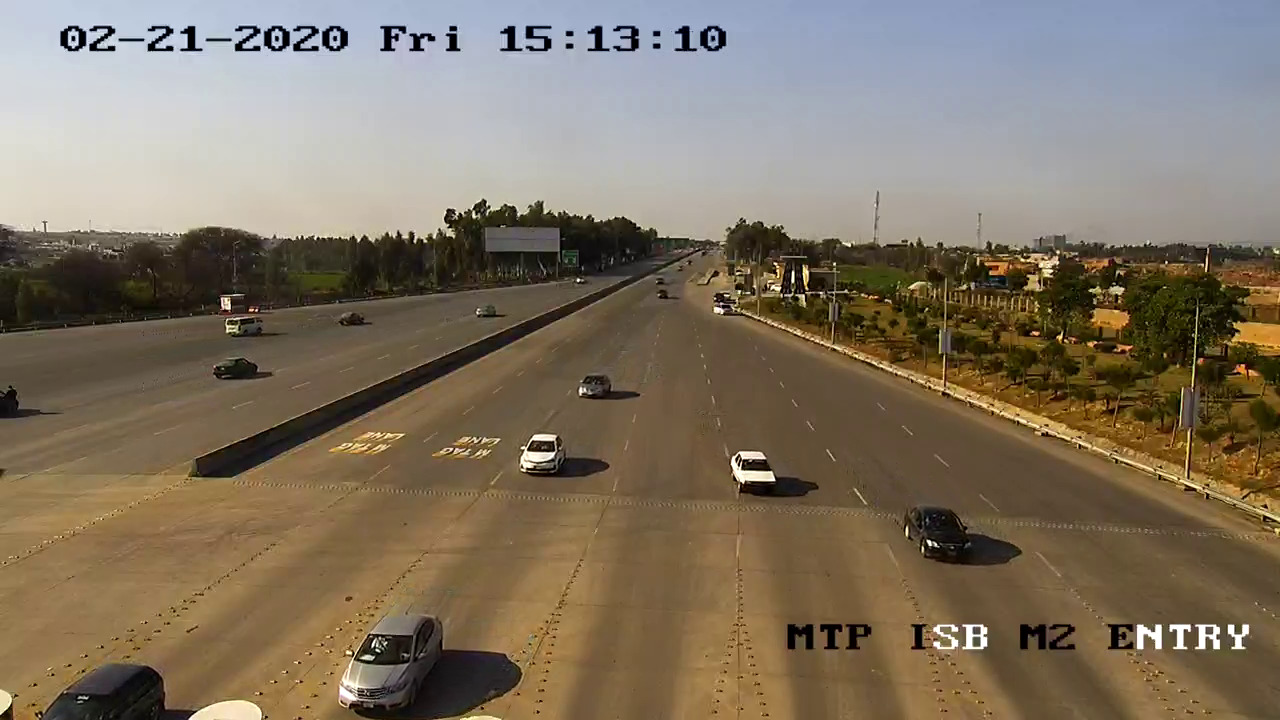f1: (328, 604, 451, 720), (897, 497, 985, 569), (726, 444, 787, 503), (515, 425, 572, 483)
